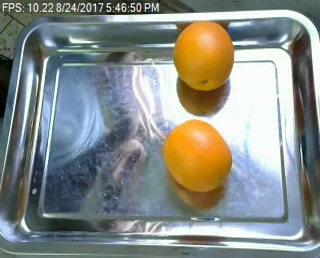Orange: (162, 118, 233, 191), (173, 21, 235, 89)
